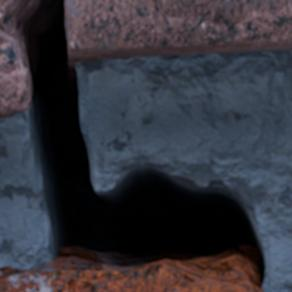brick: (0, 259, 260, 291)
broken_brick: (82, 0, 291, 33), (70, 34, 291, 63), (0, 32, 31, 119), (0, 0, 10, 18)
crack: (0, 0, 291, 291)
